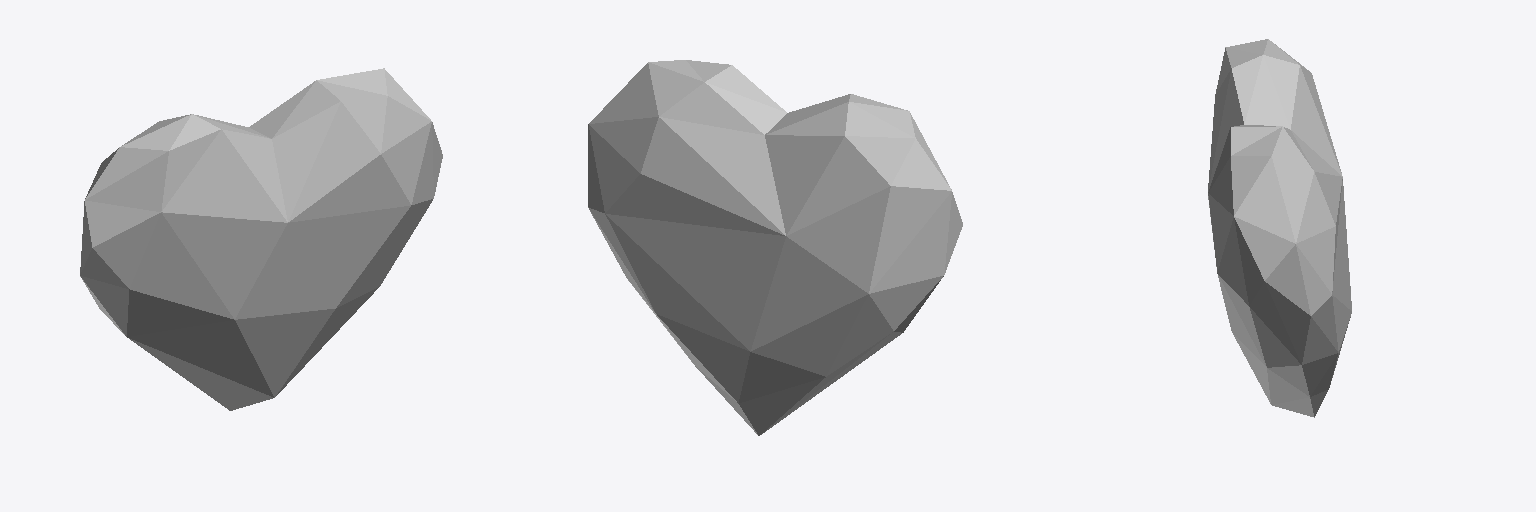
File: cuore.obj
3 renders of one model, left to right at view 1: azimuth 30°, elevation 25°; view 2: azimuth 150°, elevation 25°; view 3: azimuth 270°, elevation 25°, orthographic.
Parts seen in each view (by area): view 1: Heart; view 2: Heart; view 3: Heart.
Part boxes in pixels (left/top/right/bottom): Heart: left=80, top=68, right=442, bottom=410; Heart: left=588, top=60, right=962, bottom=435; Heart: left=1208, top=39, right=1351, bottom=417.
Size of the model in its own units: 120 by 106 by 41.8.